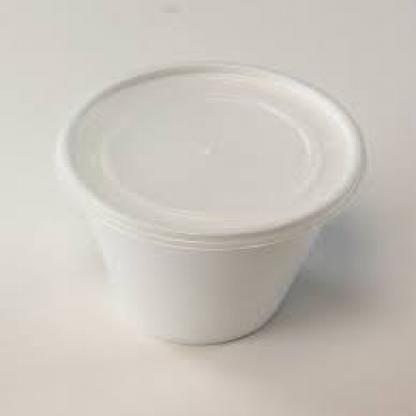trash: (59, 65, 365, 343)
